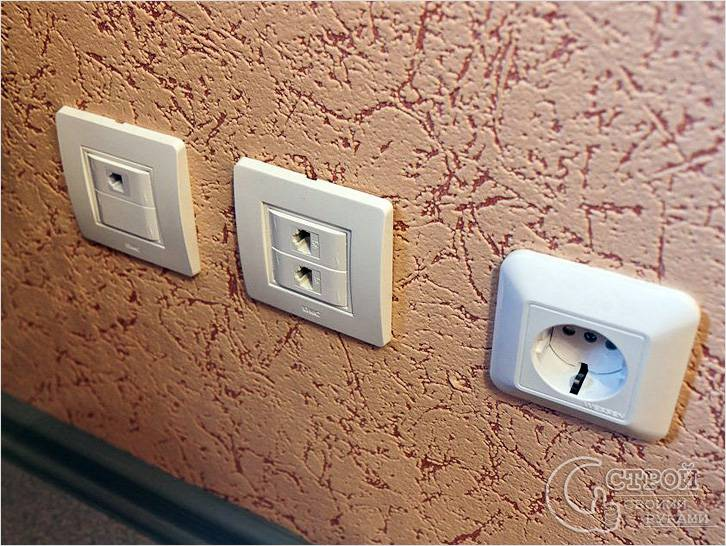raccoon: (530, 315, 629, 404)
